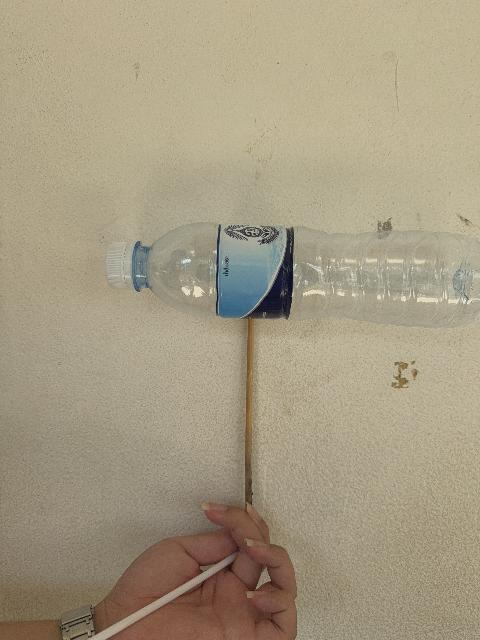bottle: (106, 223, 479, 327)
